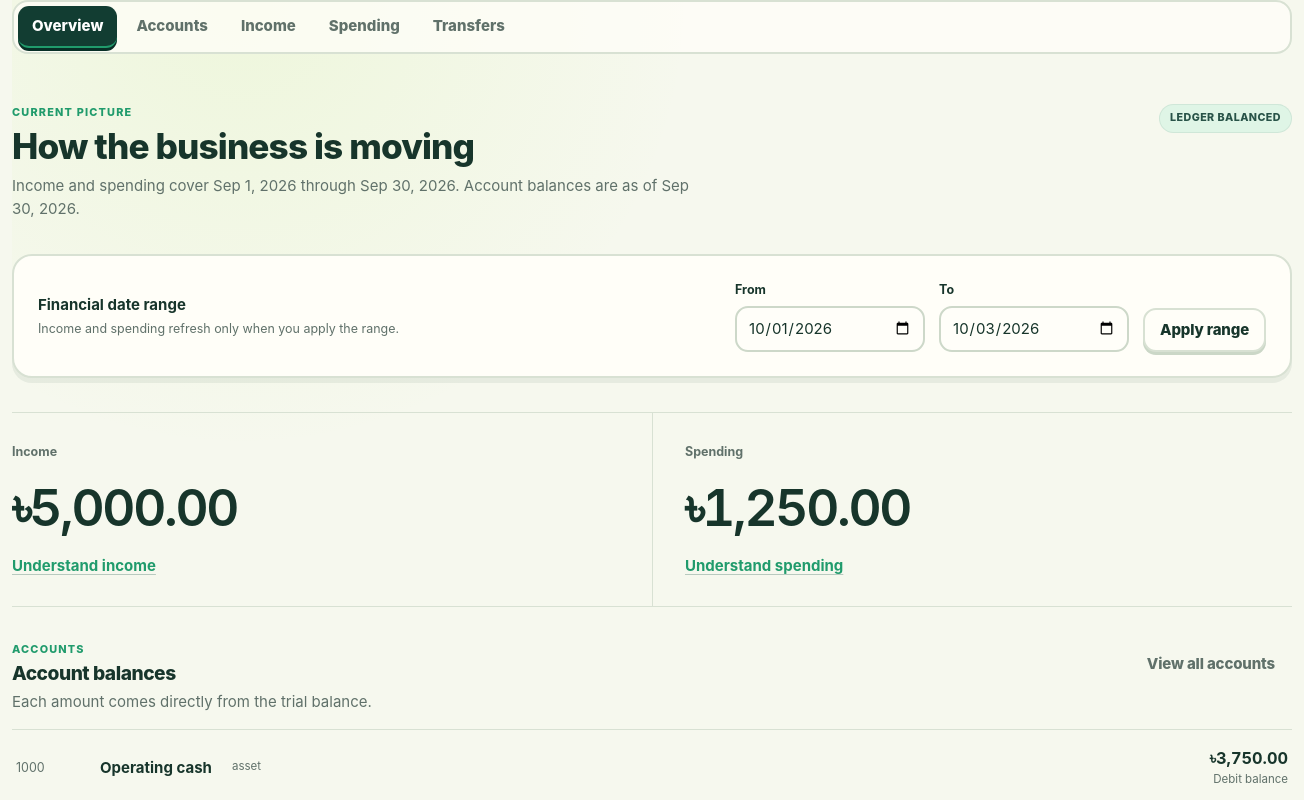
Scenario: Chatbooks BUSINESS Money workspace › keeps transfers in a truthful deferred state
What coordinates should you click on to do the following:
click the tab "Transfers"
I would click on:
 (469, 27)
Its box is [419, 6, 519, 48].
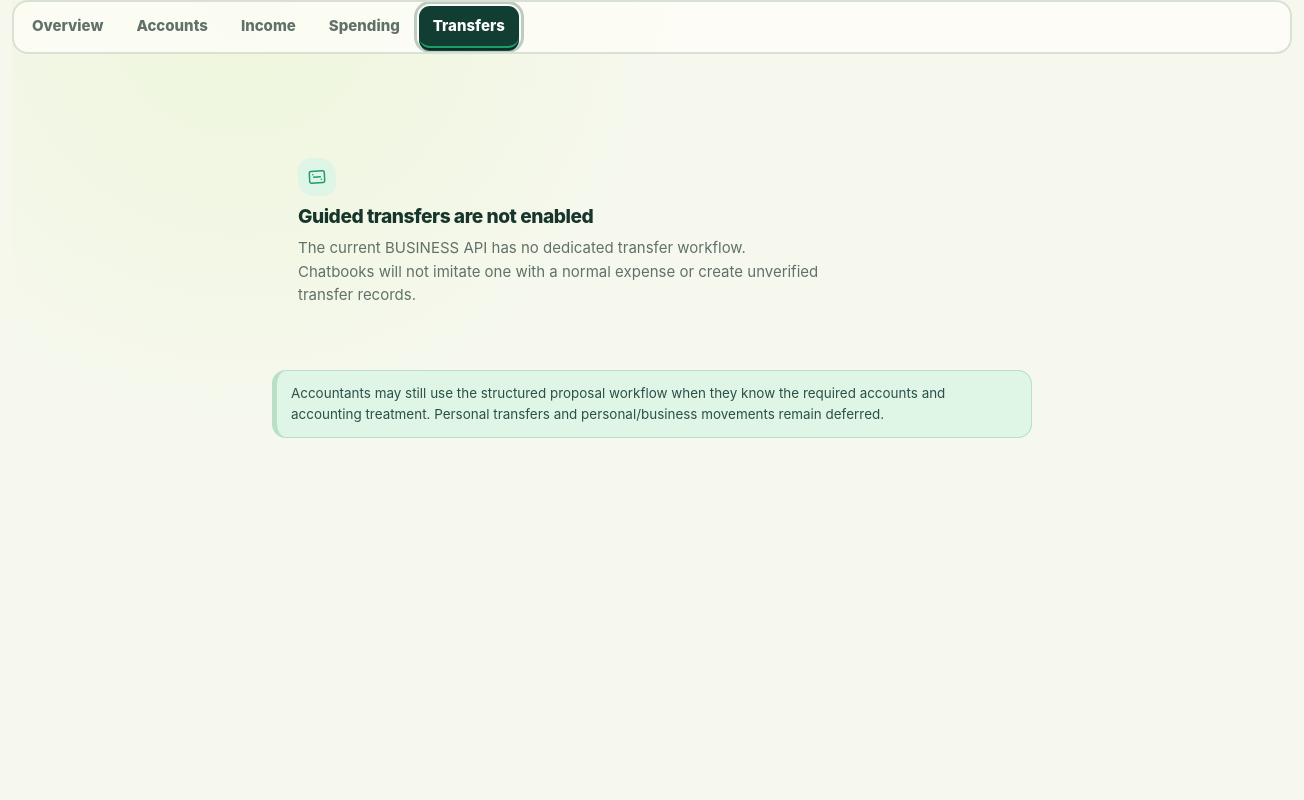
Check: the heading "Guided transfers are not enabled" is shown, box [298, 205, 593, 227]
Check: the text "has no dedicated transfer workflow" is shown, box [298, 238, 818, 304]
